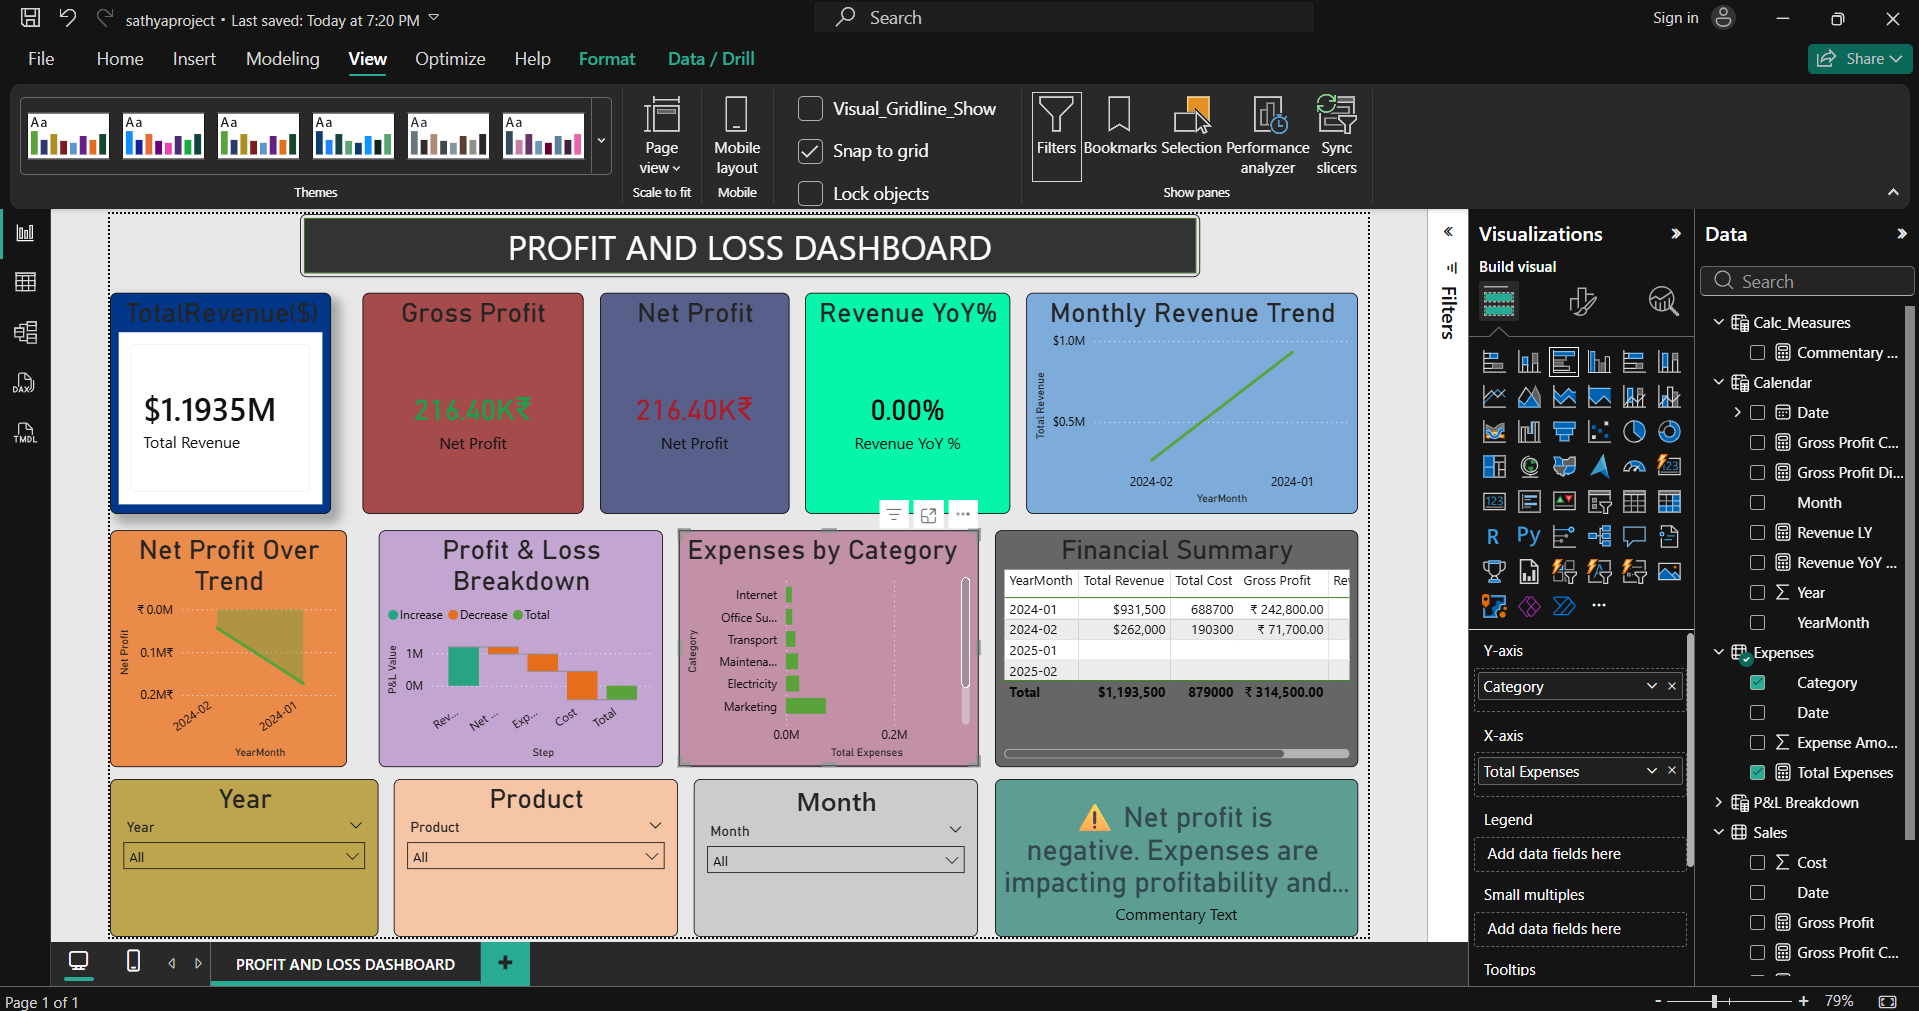

Layout of this report page (visuals, bound fields, positions):
{"tool":"powerbi","page":{"name":"PROFIT AND LOSS DASHBOARD","canvas":[1274,733],"ordinal":0},"visuals":[{"type":"cardVisual","title":"TotalRevenue($)","fields":{"Data":["Sales.Total Revenue"]},"box":[0,80,224,224],"z":0},{"type":"card","title":"Gross Profit","fields":{"Values":["Sales.Net Profit"]},"box":[256,80,224,224],"z":1000},{"type":"card","title":"Revenue YoY%","fields":{"Values":["Sales.Revenue YoY %"]},"box":[704,80,208,224],"z":2000},{"type":"card","title":"Net Profit","fields":{"Values":["Sales.Net Profit"]},"box":[496,80,192,224],"z":3000},{"type":"lineChart","title":"Monthly Revenue Trend","fields":{"Category":["Calendar.YearMonth"],"Y":["Sales.Total Revenue"]},"box":[928,80,336,224],"z":4000},{"type":"areaChart","title":"Net Profit Over Trend","fields":{"Category":["Calendar.YearMonth"],"Y":["Sales.Net Profit"]},"box":[0,320,240,240],"z":5000},{"type":"waterfallChart","title":"Profit & Loss Breakdown","fields":{"Category":["P&L Breakdown.Step"],"Y":["P&L Breakdown.P&L Value"]},"box":[272,320,288,240],"z":6000},{"type":"clusteredBarChart","title":" Expenses by Category","fields":{"Category":["Expenses.Category"],"Y":["Expenses.Total Expenses"]},"box":[576,320,304,240],"z":7000},{"type":"tableEx","title":"Financial Summary","fields":{"Values":["Calendar.YearMonth","Sales.Total Revenue","Sales.Total Cost","Sales.Gross Profit","Sales.Revenue YoY %"]},"box":[896,320,368,240],"z":8000},{"type":"slicer","title":"Year","fields":{"Values":["Calendar.Year"]},"box":[0,573,272,160],"z":9000},{"type":"slicer","title":"Product","fields":{"Values":["Sales.Product"]},"box":[288,573,288,160],"z":10000},{"type":"slicer","title":"Month","fields":{"Values":["Calendar.Month"]},"box":[592,573,288,160],"z":11000},{"type":"shape","box":[192,0,912,64],"z":12000},{"type":"card","fields":{"Values":["Calc_Measures.Commentary Text"]},"box":[896,573,368,160],"z":12001}]}

Visuals, with their boxes on the page's 1274x733 design canvas (x1, y1, x2, y2). These are canvas units, not pixel positions in the 1919x1011 screenshot, which may show the page scaled, cropped or inside an application window:
"TotalRevenue($)" cardVisual: bbox=[0, 80, 224, 304]
"Gross Profit" card: bbox=[256, 80, 480, 304]
"Revenue YoY%" card: bbox=[704, 80, 912, 304]
"Net Profit" card: bbox=[496, 80, 688, 304]
"Monthly Revenue Trend" lineChart: bbox=[928, 80, 1264, 304]
"Net Profit Over Trend" areaChart: bbox=[0, 320, 240, 560]
"Profit & Loss Breakdown" waterfallChart: bbox=[272, 320, 560, 560]
" Expenses by Category" clusteredBarChart: bbox=[576, 320, 880, 560]
"Financial Summary" tableEx: bbox=[896, 320, 1264, 560]
"Year" slicer: bbox=[0, 573, 272, 733]
"Product" slicer: bbox=[288, 573, 576, 733]
"Month" slicer: bbox=[592, 573, 880, 733]
shape: bbox=[192, 0, 1104, 64]
card - Calc_Measures.Commentary Text: bbox=[896, 573, 1264, 733]
